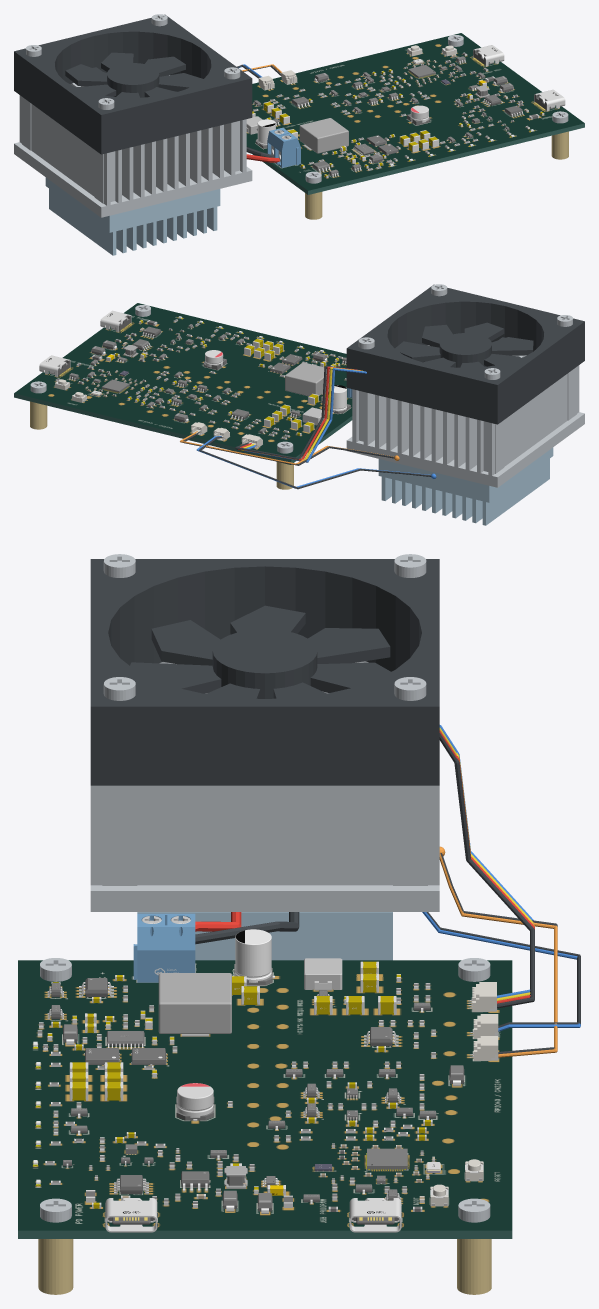
The model's file is peltier-assembly.glb.
3 renders of one model, top to bottom at view 1: azimuth 30°, elevation 25°; view 2: azimuth 150°, elevation 25°; view 3: azimuth 270°, elevation 25°, orthographic. The views are drawn at different scales.
Parts seen in each view (by area): view 1: Box0, CONCEPT_FAN_60x60x15_12V_MAX1A_INCLUDING_STARTUP_STALL, CONCEPT_HOT_FINNED_HEATSINK_60x60x24, CONCEPT_COLD_FINNED_HEATSINK_44x44x12, L2, CONCEPT_COLD_PLATE_44x44x4, J_TEC, J_USB_PD, J_USB_PROG, CONCEPT_PCB_STANDOFF_H2_OD6_ID3p2_H12, CONCEPT_PCB_STANDOFF_H1_OD6_ID3p2_H12, C29 (+1 smaller); view 2: Box0, CONCEPT_FAN_60x60x15_12V_MAX1A_INCLUDING_STARTUP_STALL, CONCEPT_HOT_FINNED_HEATSINK_60x60x24, CONCEPT_COLD_FINNED_HEATSINK_44x44x12, CONCEPT_COLD_PLATE_44x44x4, L2, CONCEPT_COLD_THERMISTOR_GND_LEAD_D0p65, CONCEPT_FAN_GND_LEAD_D0p9_MAX1A_INCLUDING_STARTUP_STALL, CONCEPT_FAN_FAN_PWM_LEAD_D0p9_MAX1A_INCLUDING_STARTUP_STALL, J_USB_PD, J_USB_PROG, CONCEPT_PCB_STANDOFF_H3_OD6_ID3p2_H12 (+8 smaller); view 3: Box0, CONCEPT_FAN_60x60x15_12V_MAX1A_INCLUDING_STARTUP_STALL, CONCEPT_HOT_FINNED_HEATSINK_60x60x24, L2, CONCEPT_COLD_FINNED_HEATSINK_44x44x12, J_TEC, CONCEPT_COLD_PLATE_44x44x4, C29, CONCEPT_PCB_STANDOFF_H1_OD6_ID3p2_H12, CONCEPT_PCB_STANDOFF_H3_OD6_ID3p2_H12, CONCEPT_FAN_GND_LEAD_D0p9_MAX1A_INCLUDING_STARTUP_STALL, J_USB_PD (+8 smaller).
Part boxes in pixels (left/top/right/bottom): Box0: left=246, top=33, right=584, bottom=194; CONCEPT_FAN_60x60x15_12V_MAX1A_INCLUDING_STARTUP_STALL: left=14, top=14, right=252, bottom=154; CONCEPT_HOT_FINNED_HEATSINK_60x60x24: left=14, top=75, right=252, bottom=217; CONCEPT_COLD_FINNED_HEATSINK_44x44x12: left=45, top=178, right=220, bottom=255; L2: left=299, top=118, right=348, bottom=153; CONCEPT_COLD_PLATE_44x44x4: left=45, top=177, right=220, bottom=224; J_TEC: left=267, top=127, right=300, bottom=167; J_USB_PD: left=534, top=89, right=565, bottom=111; J_USB_PROG: left=473, top=45, right=504, bottom=66; CONCEPT_PCB_STANDOFF_H2_OD6_ID3p2_H12: left=305, top=192, right=322, bottom=219; CONCEPT_PCB_STANDOFF_H1_OD6_ID3p2_H12: left=551, top=131, right=568, bottom=159; C29: left=255, top=119, right=275, bottom=148; Box0: left=14, top=303, right=352, bottom=464; CONCEPT_FAN_60x60x15_12V_MAX1A_INCLUDING_STARTUP_STALL: left=346, top=284, right=584, bottom=424; CONCEPT_HOT_FINNED_HEATSINK_60x60x24: left=346, top=345, right=584, bottom=487; CONCEPT_COLD_FINNED_HEATSINK_44x44x12: left=378, top=448, right=553, bottom=525; CONCEPT_COLD_PLATE_44x44x4: left=378, top=447, right=553, bottom=494; L2: left=285, top=362, right=332, bottom=396; CONCEPT_COLD_THERMISTOR_GND_LEAD_D0p65: left=199, top=436, right=431, bottom=489; CONCEPT_FAN_GND_LEAD_D0p9_MAX1A_INCLUDING_STARTUP_STALL: left=235, top=366, right=357, bottom=459; CONCEPT_FAN_FAN_PWM_LEAD_D0p9_MAX1A_INCLUDING_STARTUP_STALL: left=244, top=368, right=366, bottom=462; J_USB_PD: left=100, top=310, right=131, bottom=332; J_USB_PROG: left=39, top=355, right=70, bottom=377; CONCEPT_PCB_STANDOFF_H3_OD6_ID3p2_H12: left=30, top=401, right=47, bottom=429; Box0: left=18, top=960, right=512, bottom=1238; CONCEPT_FAN_60x60x15_12V_MAX1A_INCLUDING_STARTUP_STALL: left=90, top=559, right=439, bottom=785; CONCEPT_HOT_FINNED_HEATSINK_60x60x24: left=90, top=661, right=439, bottom=911; L2: left=158, top=973, right=231, bottom=1036; CONCEPT_COLD_FINNED_HEATSINK_44x44x12: left=195, top=933, right=392, bottom=960; J_TEC: left=133, top=913, right=195, bottom=982; CONCEPT_COLD_PLATE_44x44x4: left=137, top=912, right=392, bottom=933; C29: left=232, top=929, right=274, bottom=985; CONCEPT_PCB_STANDOFF_H1_OD6_ID3p2_H12: left=38, top=1239, right=73, bottom=1294; CONCEPT_PCB_STANDOFF_H3_OD6_ID3p2_H12: left=457, top=1239, right=491, bottom=1294; CONCEPT_FAN_GND_LEAD_D0p9_MAX1A_INCLUDING_STARTUP_STALL: left=439, top=733, right=534, bottom=1008; J_USB_PD: left=105, top=1198, right=157, bottom=1232.
Bounding box in the file's own units: 186 × 60.8 × 96.83.
Materials: 52 (2 with a texture image).
